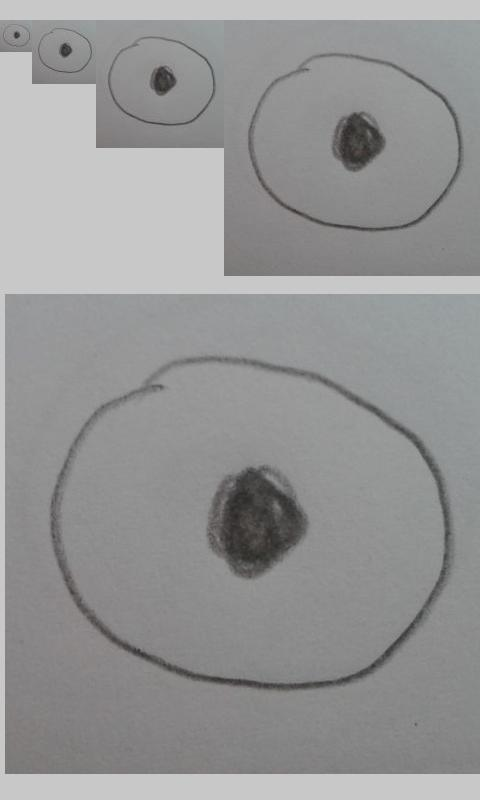radio_button: (48, 353, 454, 694), (246, 50, 466, 235), (107, 36, 216, 127), (37, 27, 93, 74), (2, 23, 31, 47)
